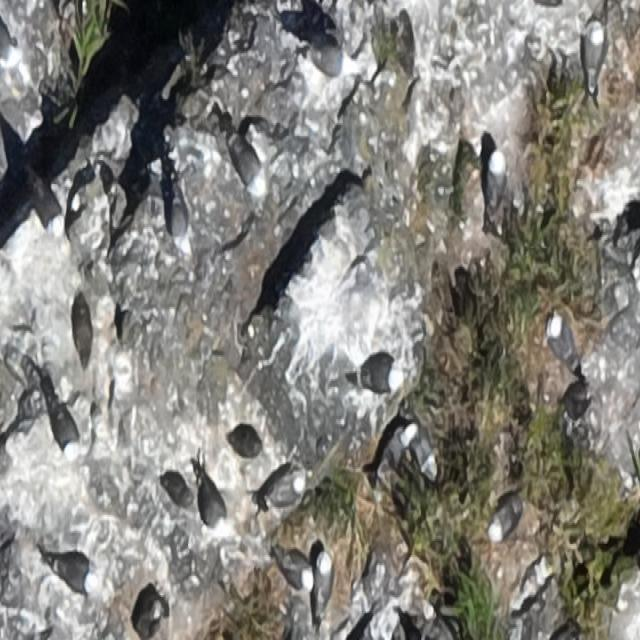umineko: (544, 309, 580, 376), (230, 137, 268, 199), (28, 170, 62, 236), (314, 40, 358, 82), (198, 478, 228, 539), (491, 498, 525, 542), (171, 195, 195, 255), (385, 422, 418, 465), (408, 422, 433, 478), (52, 559, 95, 591), (282, 555, 314, 593), (361, 364, 404, 392), (582, 27, 604, 80), (268, 476, 304, 508), (312, 555, 332, 611), (56, 411, 80, 457), (2, 26, 23, 65), (488, 151, 504, 200)
